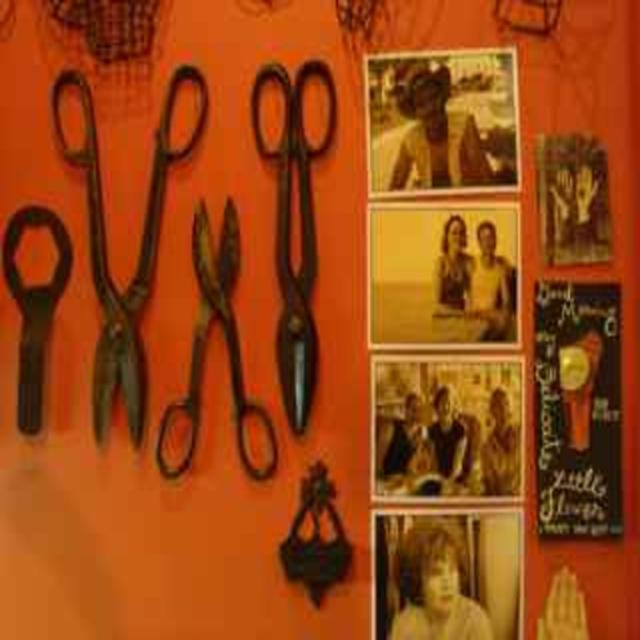scissors: (51, 63, 208, 449), (156, 194, 278, 482), (251, 58, 337, 435), (1, 203, 73, 435)
